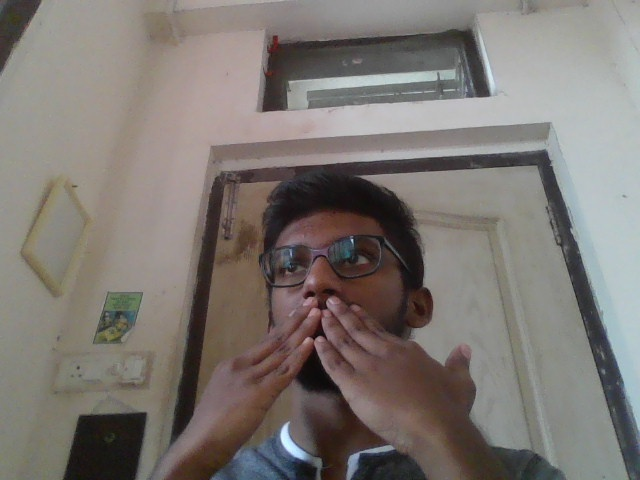Thank You: (186, 292, 483, 451)
